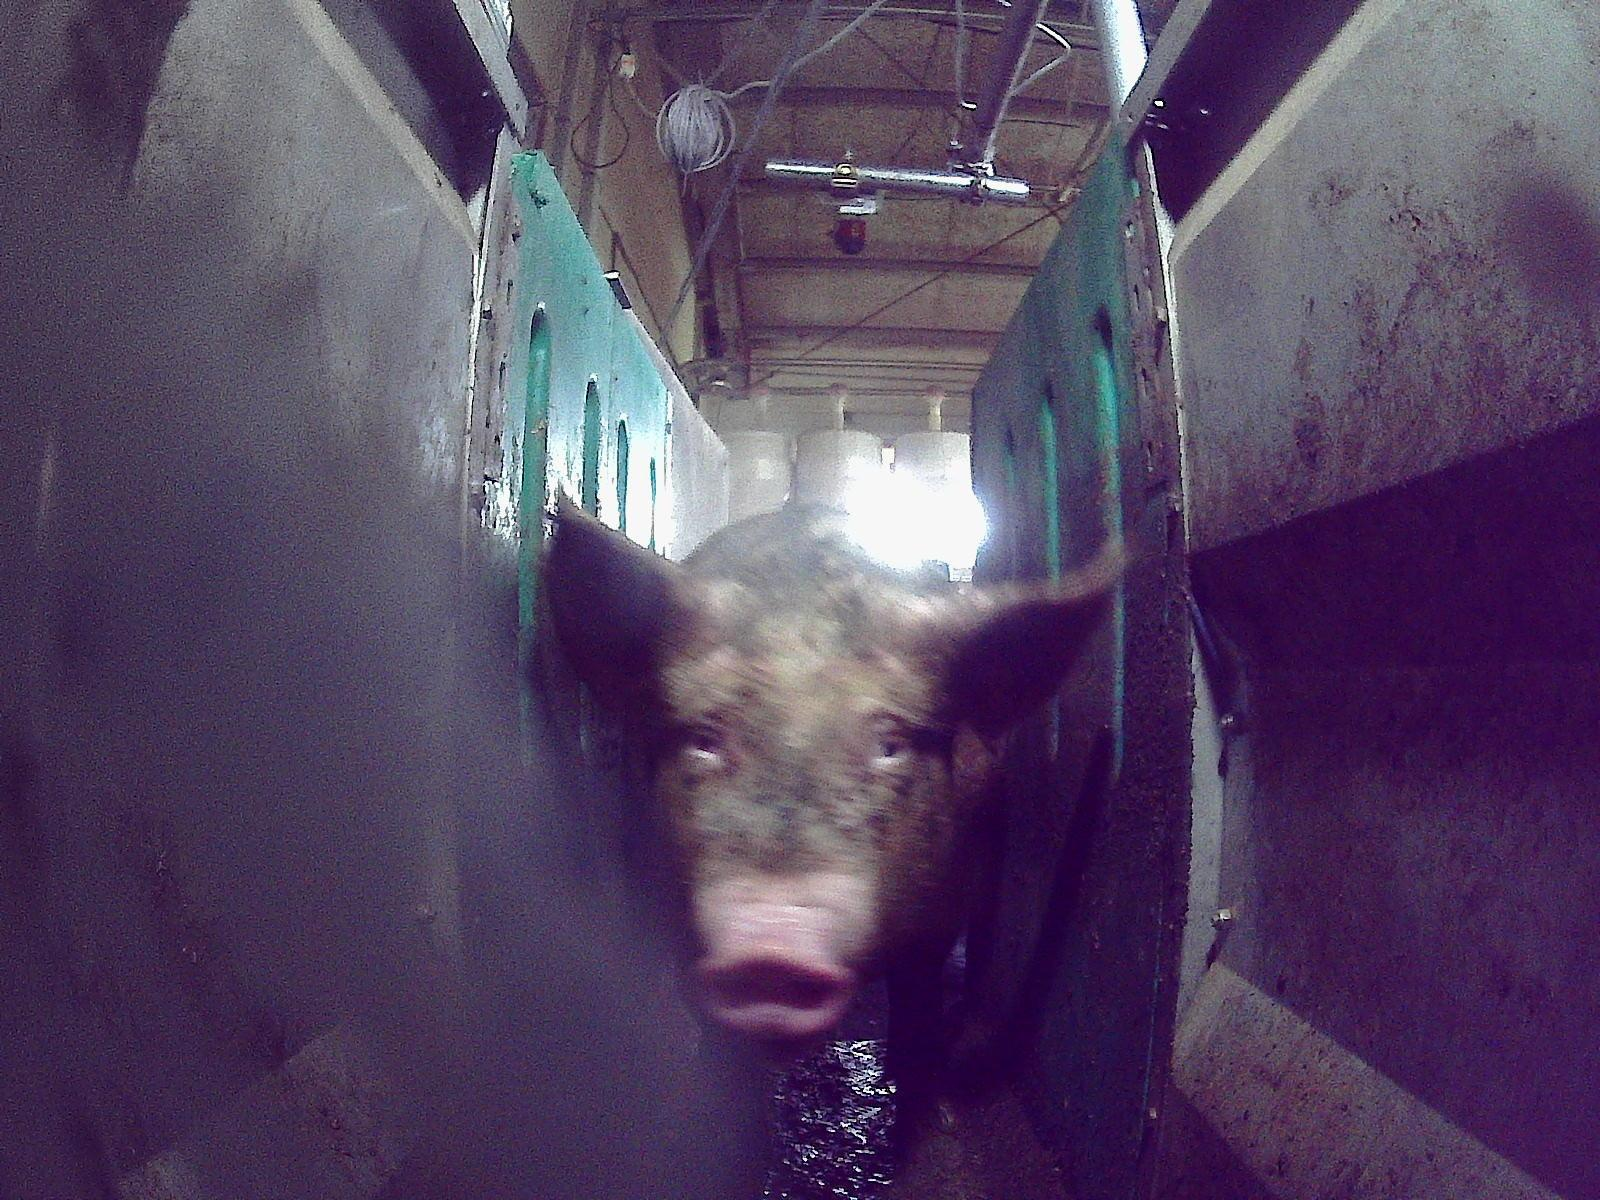Face: (648, 598, 968, 1037)
